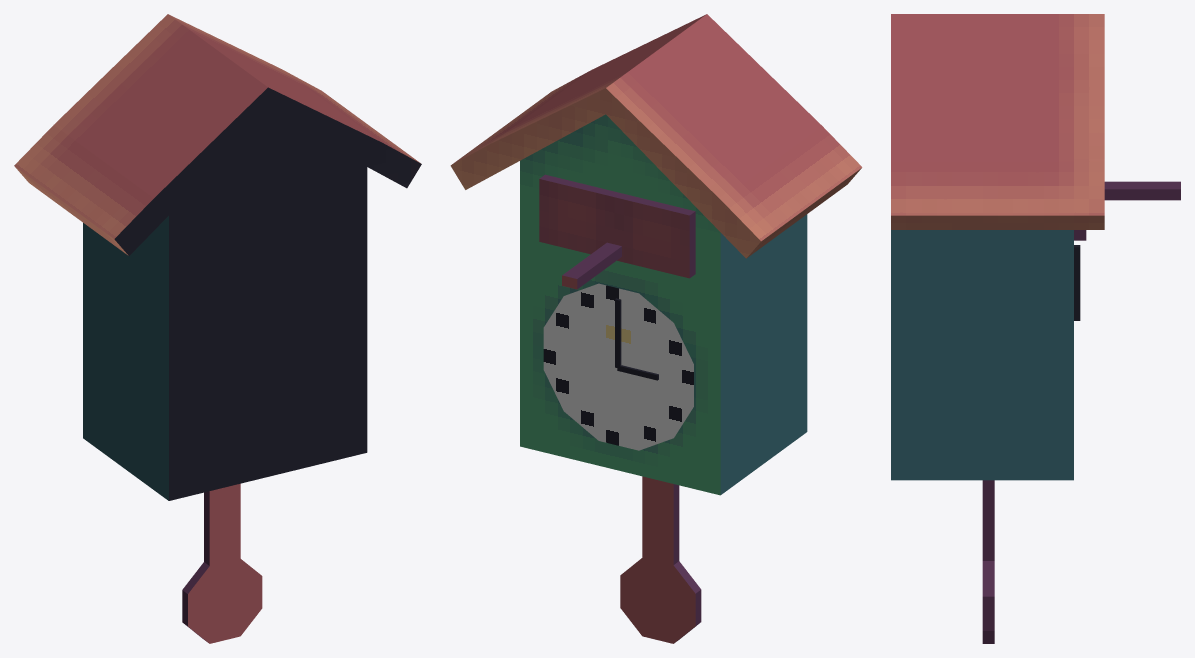
File: cuckoo_clock.gltf
3 views of the same model, side by side, from view 1: azimuth 30°, elevation 25°; view 2: azimuth 150°, elevation 25°; view 3: azimuth 270°, elevation 25° (orthographic). The views are drawn at different scales.
Visible parts, largest first — view 1: Base, SwingyBallsIdkwhatthisiscalled; view 2: Base, Clock, SwingyBallsIdkwhatthisiscalled, DoorRight, DoorLeft, DoorStick; view 3: Base, SwingyBallsIdkwhatthisiscalled, DoorStick, MinuteArrow.
Boxes of the visible parts, left/top/right/bottom form: Base: left=14, top=14, right=421, bottom=500; SwingyBallsIdkwhatthisiscalled: left=182, top=483, right=262, bottom=643; Base: left=450, top=14, right=862, bottom=495; Clock: left=543, top=283, right=693, bottom=450; SwingyBallsIdkwhatthisiscalled: left=620, top=476, right=701, bottom=643; DoorRight: left=614, top=193, right=695, bottom=278; DoorLeft: left=539, top=174, right=619, bottom=254; DoorStick: left=562, top=242, right=621, bottom=289; Base: left=891, top=14, right=1104, bottom=480; SwingyBallsIdkwhatthisiscalled: left=982, top=480, right=994, bottom=643; DoorStick: left=1104, top=181, right=1180, bottom=200; MinuteArrow: left=1074, top=245, right=1080, bottom=319.
Bounding box in the file's own units: 0.3875 × 0.7031 × 0.2969.
2 materials, 2 textured.
